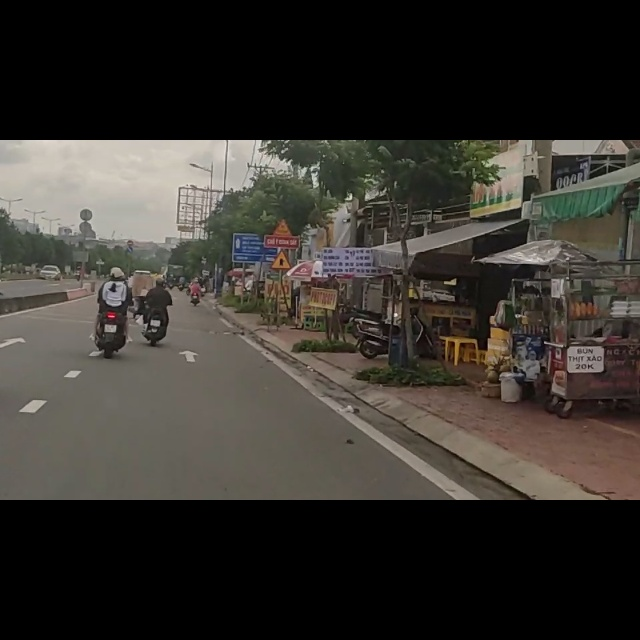bien_hieu_lenh: (269, 192, 293, 231)
